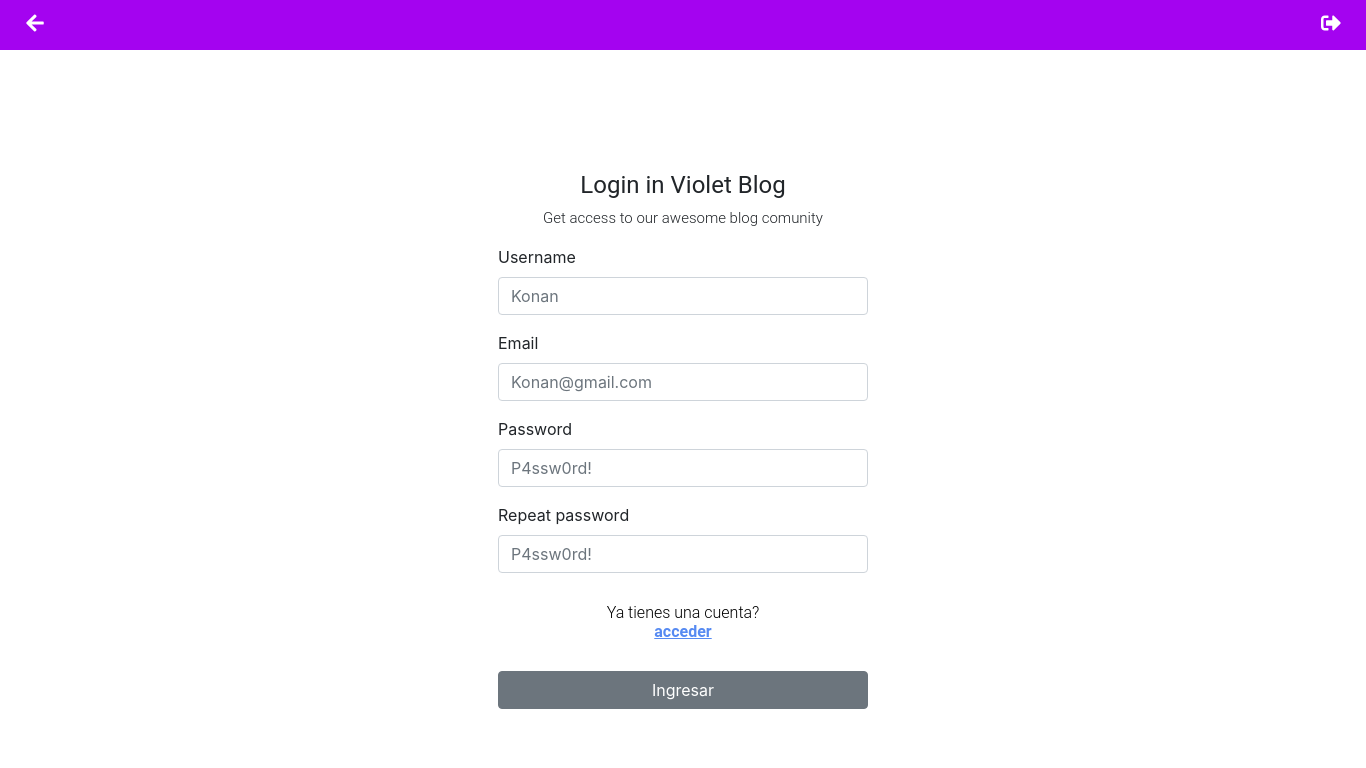
Test: Register › Without username
This screenshot has width=1366, height=768.
Click the button "Ingresar".
click(683, 690)  # box top-left (498, 671), bottom-right (868, 709)
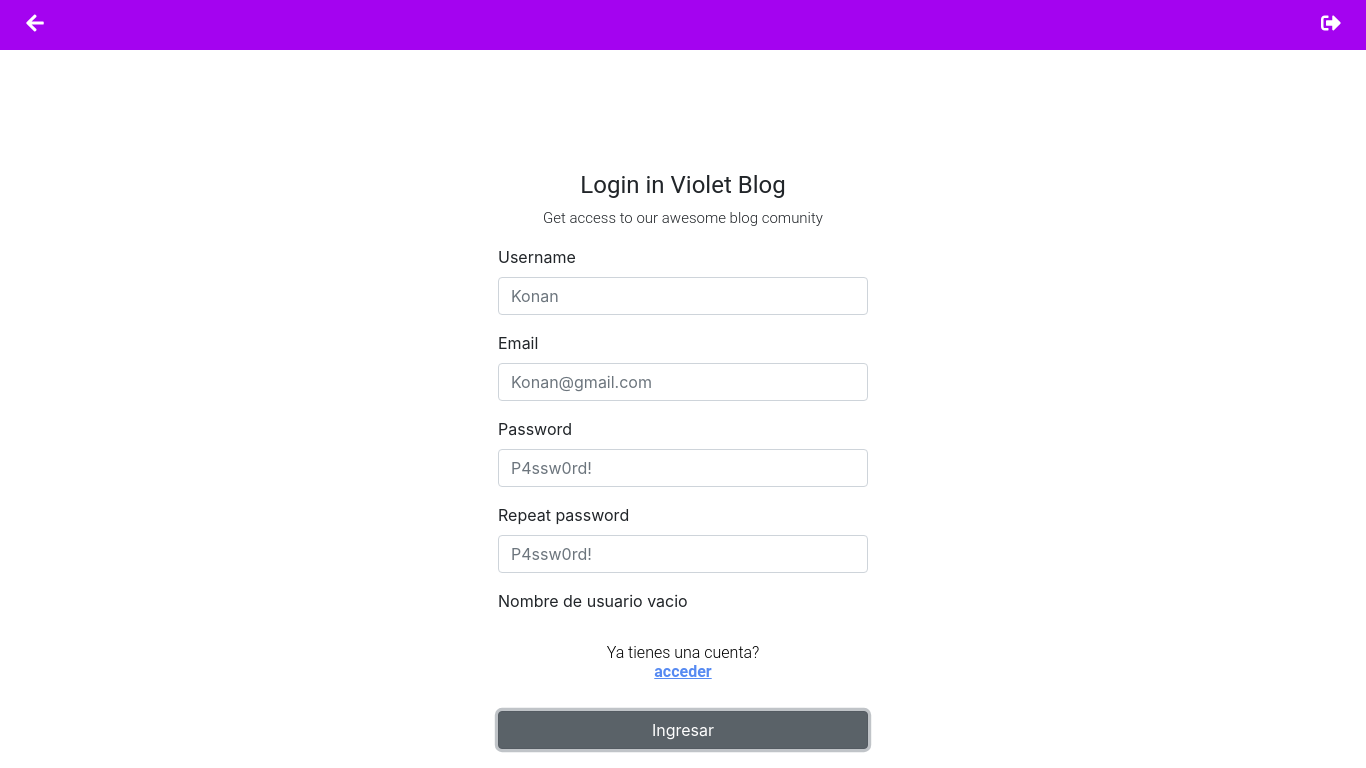
Now the text "Nombre de usuario vacio" is shown, box top-left (498, 591), bottom-right (688, 611)
